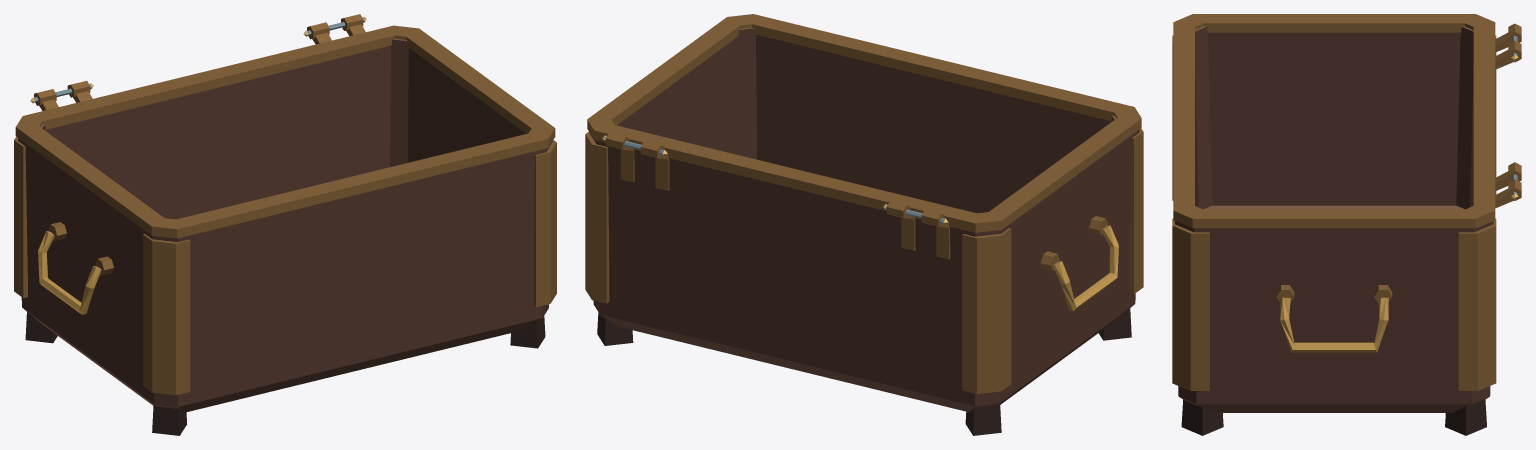
The model's file is magic_box.glb.
3 renders of one model, left to right at view 1: azimuth 30°, elevation 25°; view 2: azimuth 150°, elevation 25°; view 3: azimuth 270°, elevation 25°, orthographic. The views are drawn at different scales.
Visible parts, largest first — view 1: SM_Magic_Chest_Body; view 2: SM_Magic_Chest_Body; view 3: SM_Magic_Chest_Body.
Part boxes in pixels (x1,y1,x2,y2): SM_Magic_Chest_Body: (14,14,556,435); SM_Magic_Chest_Body: (585,14,1143,435); SM_Magic_Chest_Body: (1172,14,1521,435).
Bounding box in the file's own units: 0.722 × 0.338 × 0.4637.
2 materials, 2 textured.
